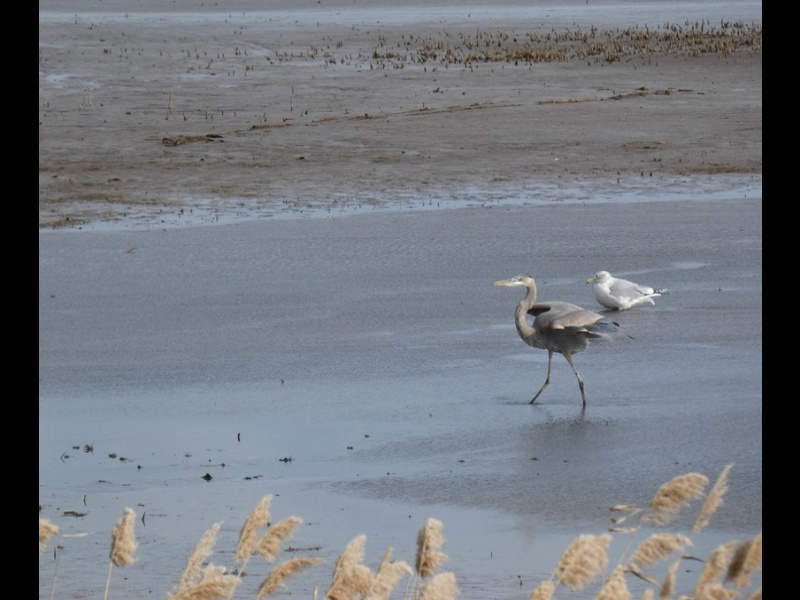heron: (491, 272, 630, 411)
